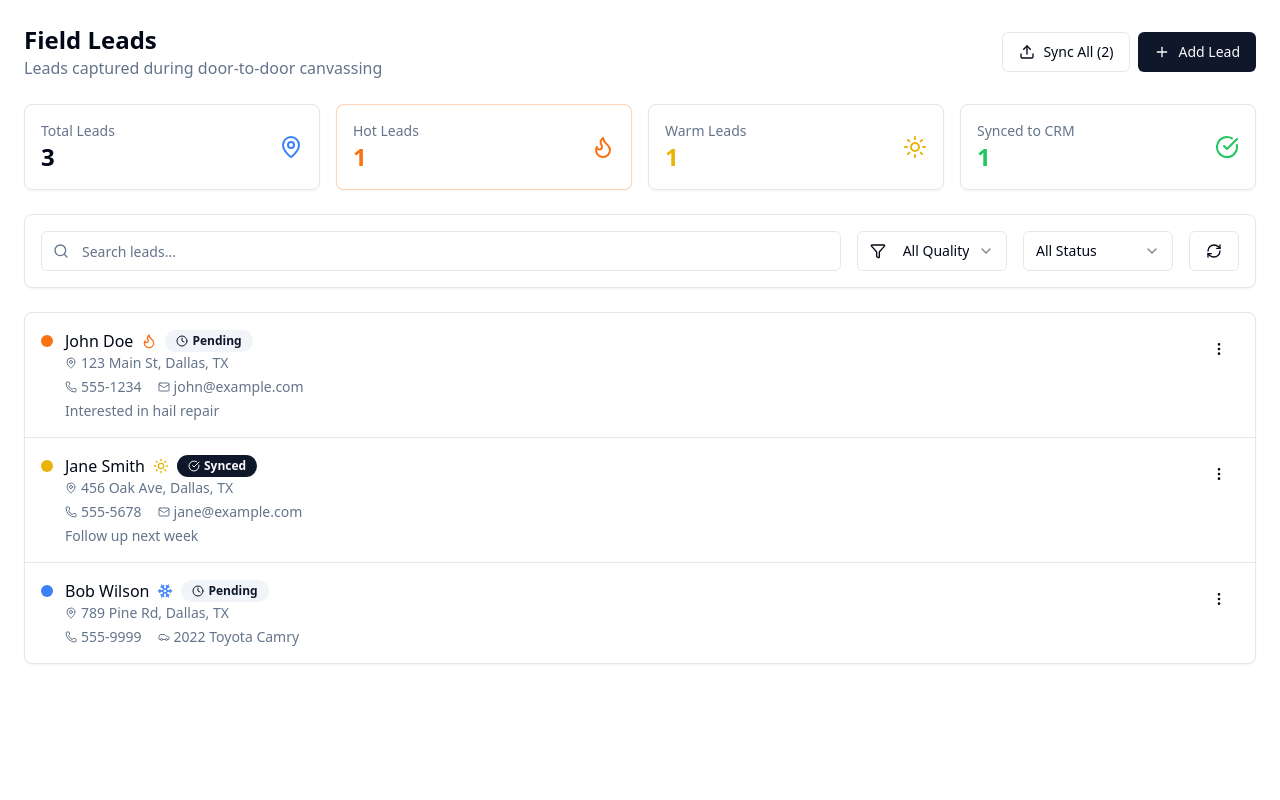
Test: FieldLeadsPage › Search Functionality › filters leads by customer name
Expected: the text "John Doe" is shown, [65,329,133,353]
Type "Jane" into the field with placeholder "Search leads..." at [441, 251], box [41,231,841,271]
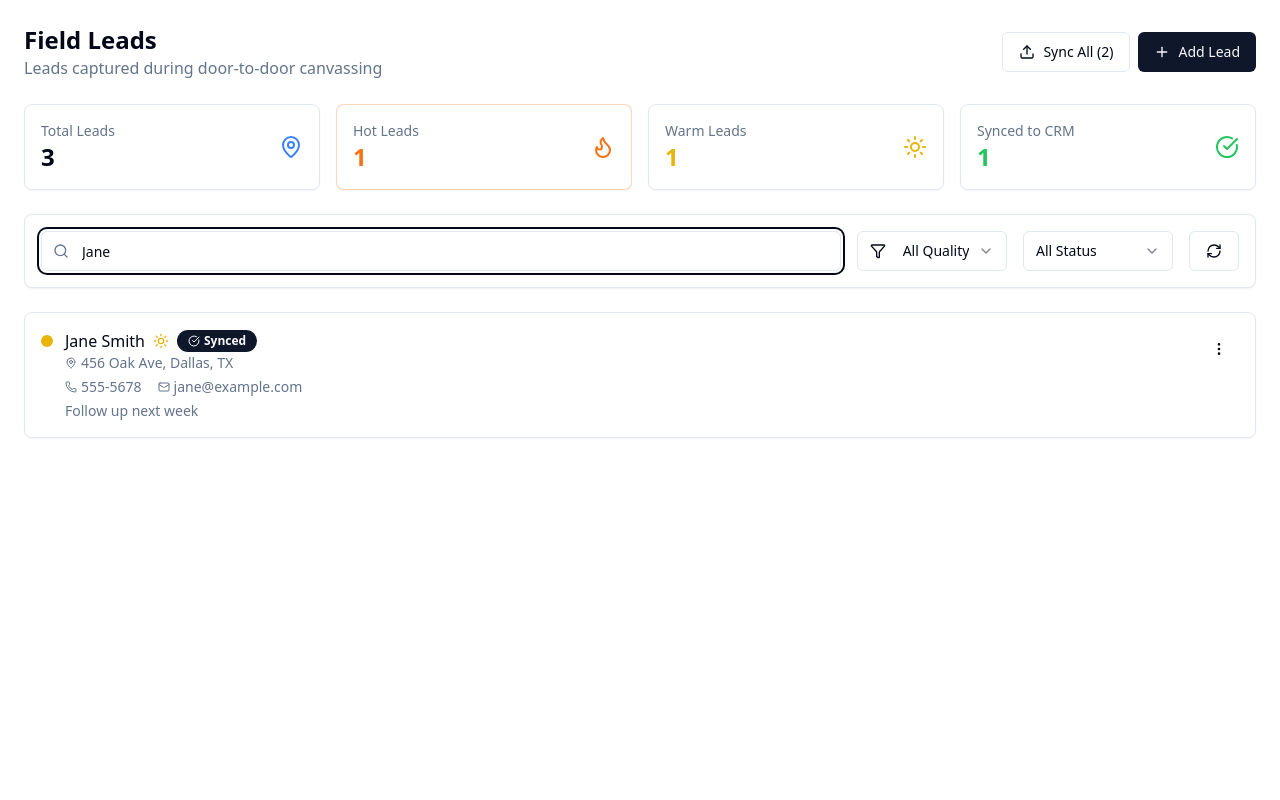
Expected: the text "Jane Smith" is shown, [65,329,145,353]
Expected: the text "John Doe" is gone
Expected: the text "Bob Wilson" is gone
